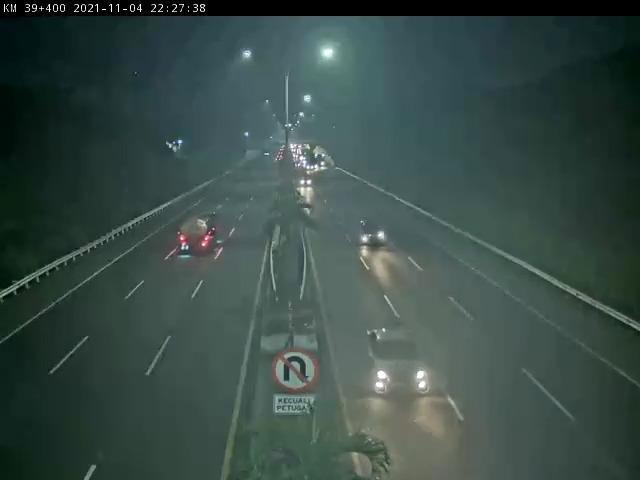car: (366, 327, 430, 400), (360, 217, 387, 249)
truck: (181, 215, 221, 255)
